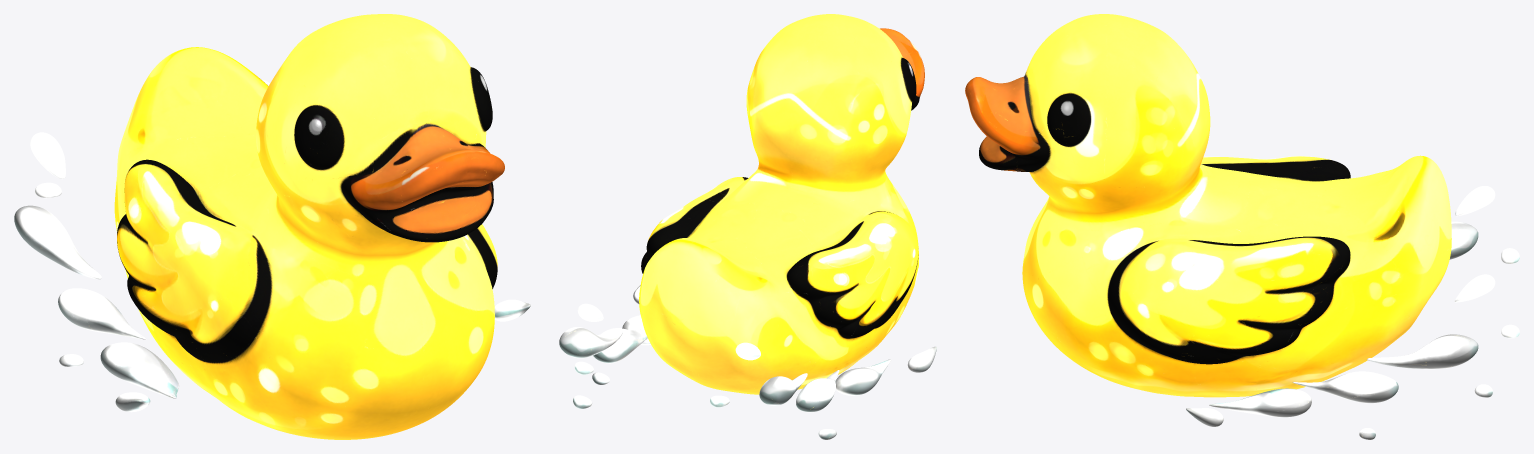
Rendered from Canard.fbx.
The picture shows the model from 3 angles, left to right: view 1: azimuth 30°, elevation 25°; view 2: azimuth 150°, elevation 25°; view 3: azimuth 270°, elevation 25°; orthographic projection. The views are drawn at different scales.
Parts seen in each view (by area): view 1: Mesh_0; view 2: Mesh_0; view 3: Mesh_0.
Part boxes in pixels (box(x1,y1,x2,y2)): Mesh_0: box(14, 14, 530, 439); Mesh_0: box(559, 14, 936, 439); Mesh_0: box(965, 14, 1519, 439).
Bounding box in the file's own units: 133 × 134 × 190.
Materials: 1 (1 with a texture image).
